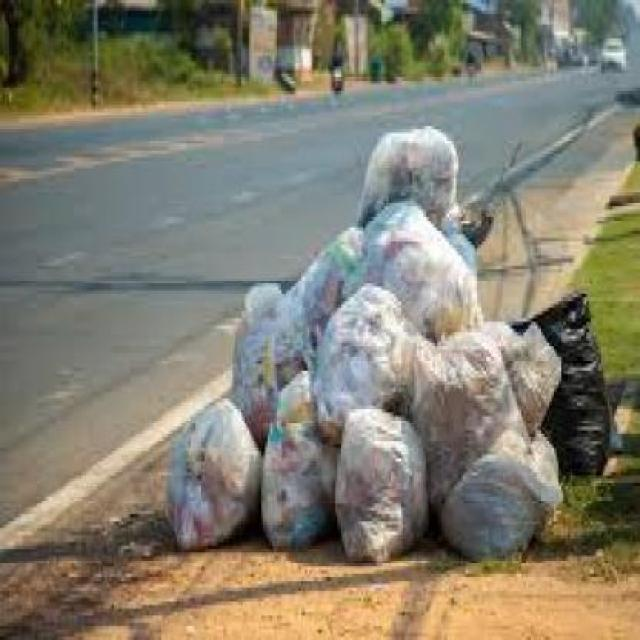garbage: (159, 115, 620, 576)
